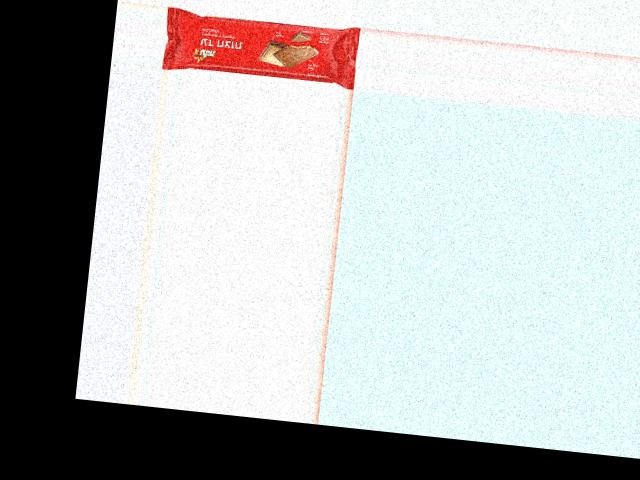chocolate: (166, 6, 358, 89)
